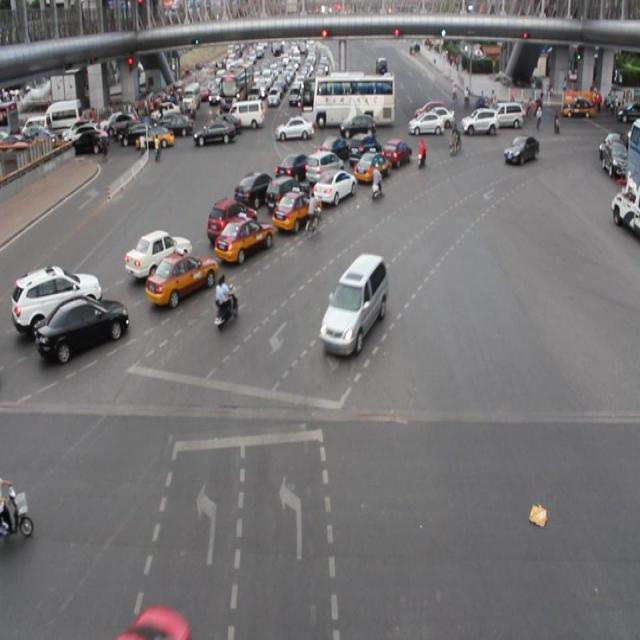car: (320, 253, 387, 351), (12, 271, 102, 330), (37, 296, 128, 354), (146, 252, 217, 300), (125, 230, 191, 275), (215, 216, 274, 257), (207, 198, 256, 242), (272, 188, 318, 232), (233, 172, 276, 206), (266, 175, 309, 209), (313, 170, 357, 202), (306, 150, 344, 185), (353, 148, 390, 183), (502, 135, 539, 166), (349, 133, 382, 166), (276, 152, 311, 181), (382, 137, 410, 166), (319, 135, 350, 160)
